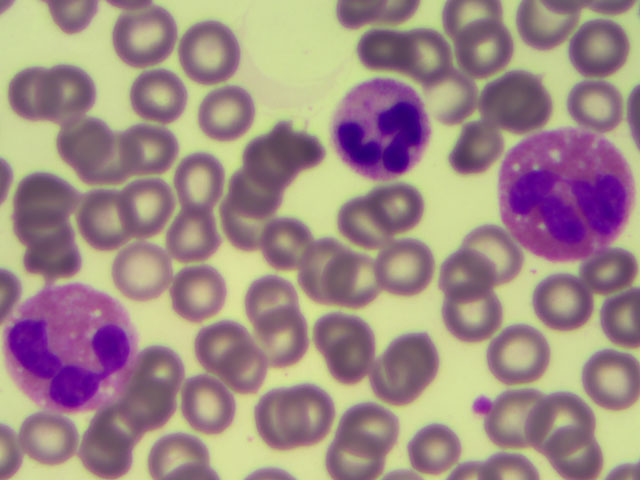Platelets: (464, 395, 492, 416)
RBC: (80, 420, 141, 480), (145, 420, 206, 480), (317, 420, 378, 480), (413, 420, 474, 480), (547, 420, 608, 480), (115, 7, 176, 66), (40, 59, 101, 118), (8, 67, 69, 126), (49, 111, 110, 170), (75, 130, 136, 189), (116, 124, 177, 183), (123, 70, 184, 129), (180, 21, 241, 80), (194, 81, 255, 140), (263, 114, 324, 173), (221, 140, 282, 199), (227, 160, 288, 219), (218, 196, 279, 255), (168, 142, 229, 201), (162, 210, 223, 269), (114, 174, 175, 233), (82, 183, 143, 242), (15, 167, 76, 226), (13, 202, 74, 261), (21, 226, 82, 285), (109, 247, 170, 306), (173, 272, 234, 331), (190, 306, 251, 365), (212, 331, 273, 390), (182, 375, 243, 434), (137, 347, 198, 406), (128, 373, 189, 432), (92, 397, 153, 456), (18, 412, 79, 471), (245, 393, 306, 452), (281, 378, 342, 437), (256, 315, 317, 374), (235, 267, 296, 326), (257, 219, 318, 278), (283, 234, 344, 293), (316, 251, 377, 310), (320, 293, 381, 352), (324, 333, 385, 392), (374, 353, 435, 412), (386, 329, 447, 388), (347, 408, 408, 467), (500, 390, 561, 449), (522, 393, 583, 452), (579, 355, 640, 414), (534, 271, 595, 330), (571, 246, 632, 305), (493, 323, 554, 382), (441, 286, 502, 345), (439, 241, 500, 300), (455, 222, 516, 281), (373, 229, 434, 288), (339, 197, 400, 256), (363, 180, 424, 239), (438, 122, 499, 181), (423, 56, 484, 115), (401, 30, 462, 89), (364, 28, 425, 87), (445, 20, 506, 79), (446, 6, 507, 65), (496, 72, 557, 131), (579, 80, 640, 139), (570, 17, 631, 76), (517, 1, 578, 60), (38, 1, 99, 59)
WBC: (491, 124, 631, 262), (5, 286, 130, 407), (331, 81, 437, 188)
